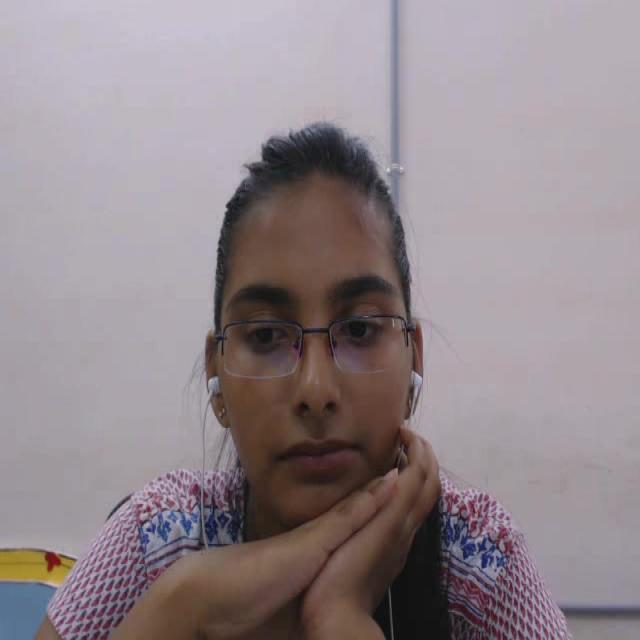Bored: (182, 110, 451, 567)
